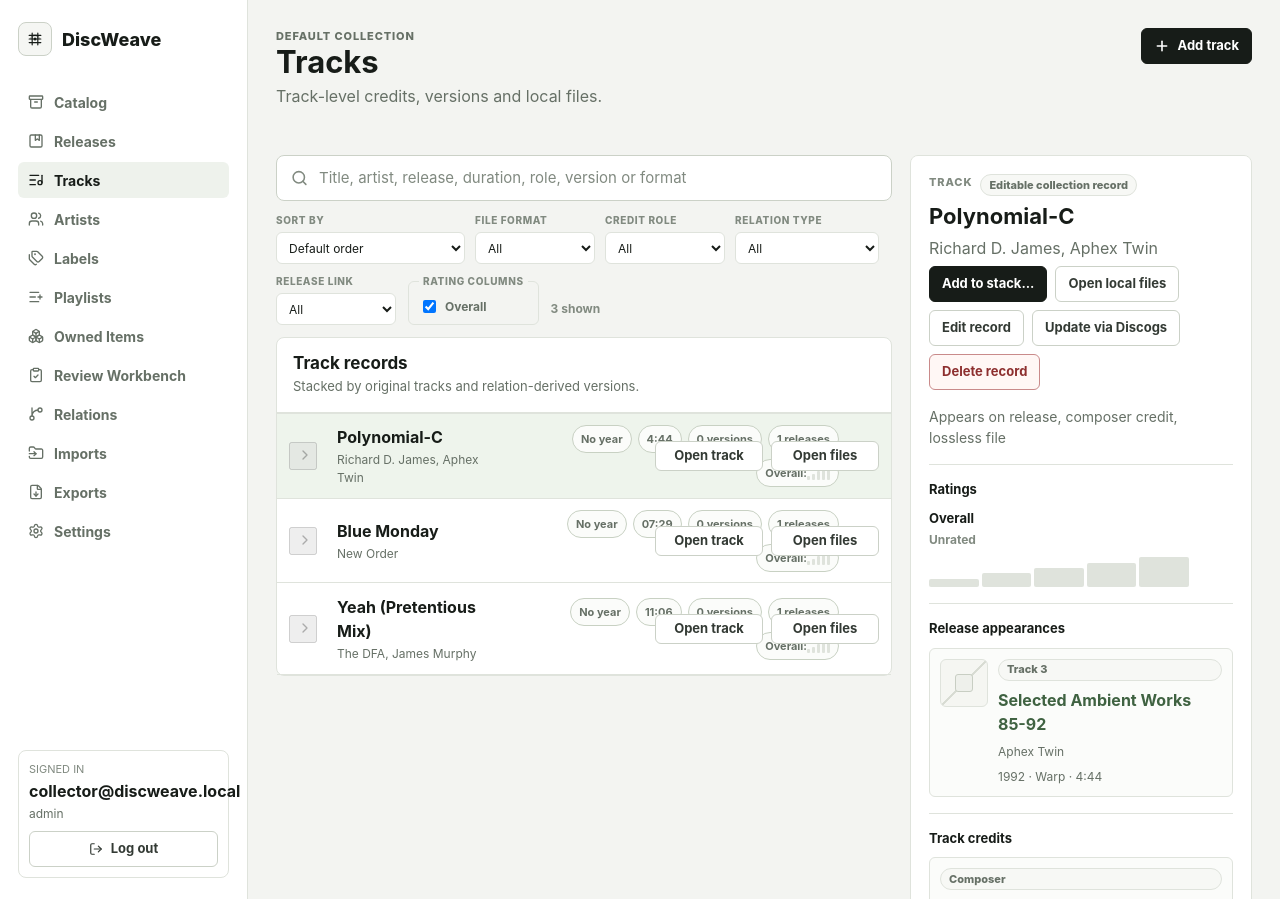
Scenario: App local file open › shows a per-file list for a track with multiple files
Click the button "Open local files" at (1117, 284), box [1055,266,1179,302]
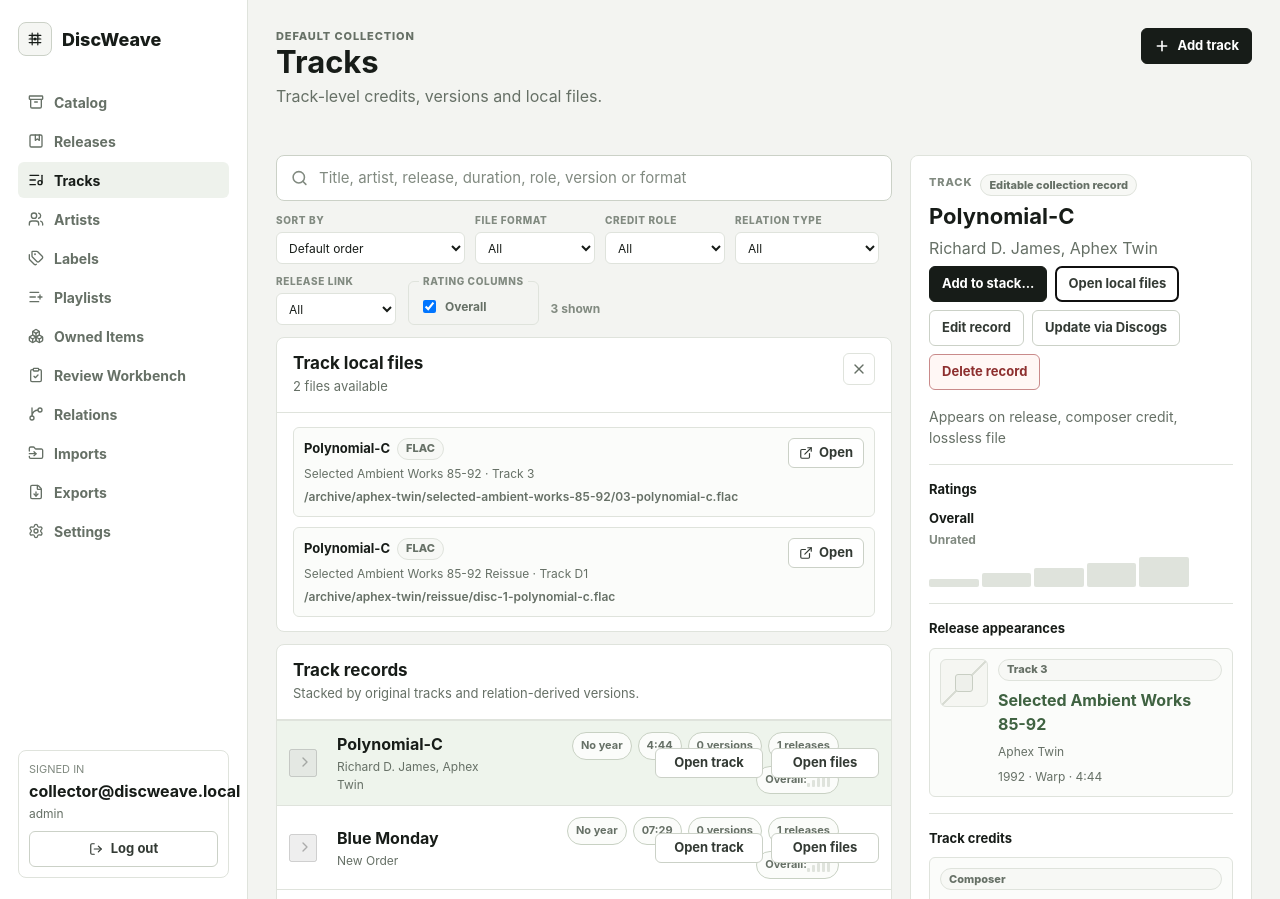
Expected: the text "Selected Ambient Works 85-92 · Track 3" is shown, [304,466,534,481]
Expected: the text "Selected Ambient Works 85-92 Reissue · Track D1" is shown, [304,566,588,581]
Expected: the 1st text "Polynomial-C" is shown, [304,439,390,459]
